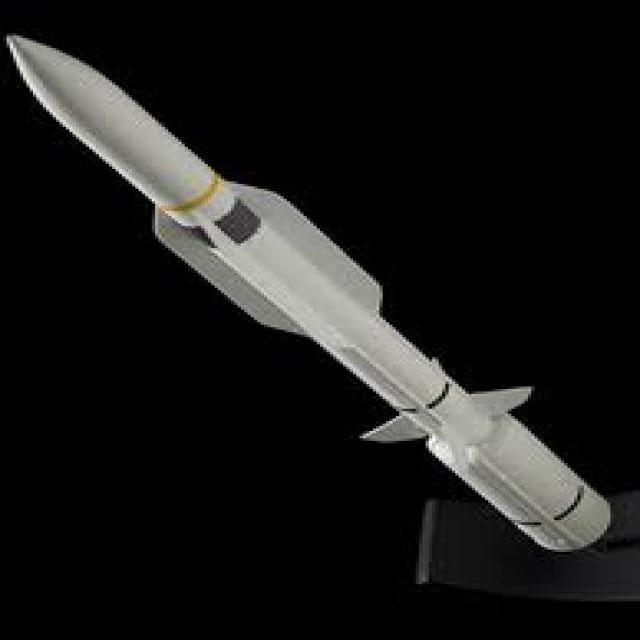missile: (6, 29, 614, 570)
